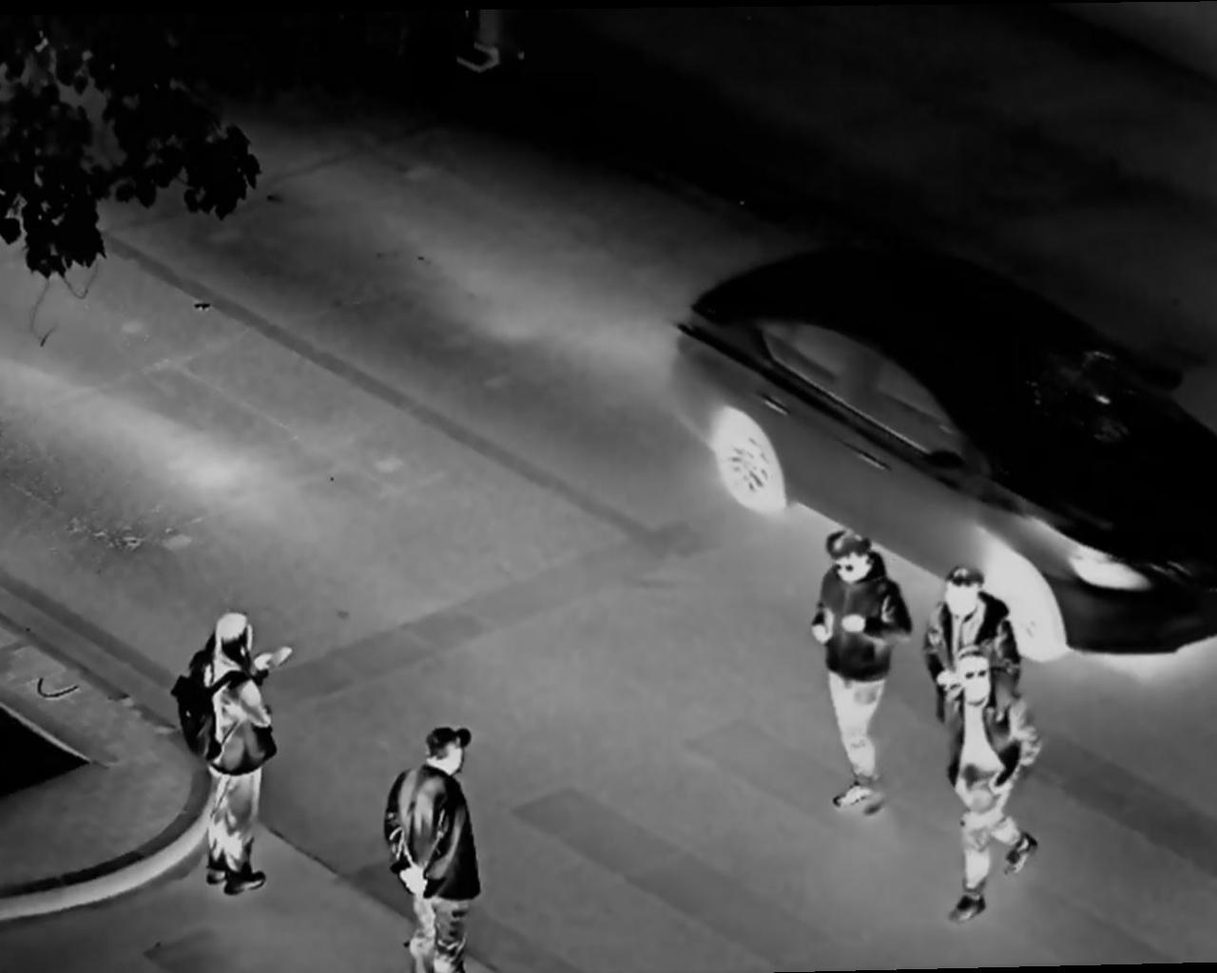person: (158, 603, 306, 914), (933, 648, 1047, 931), (806, 527, 912, 830), (379, 726, 499, 973), (925, 566, 1025, 681)
